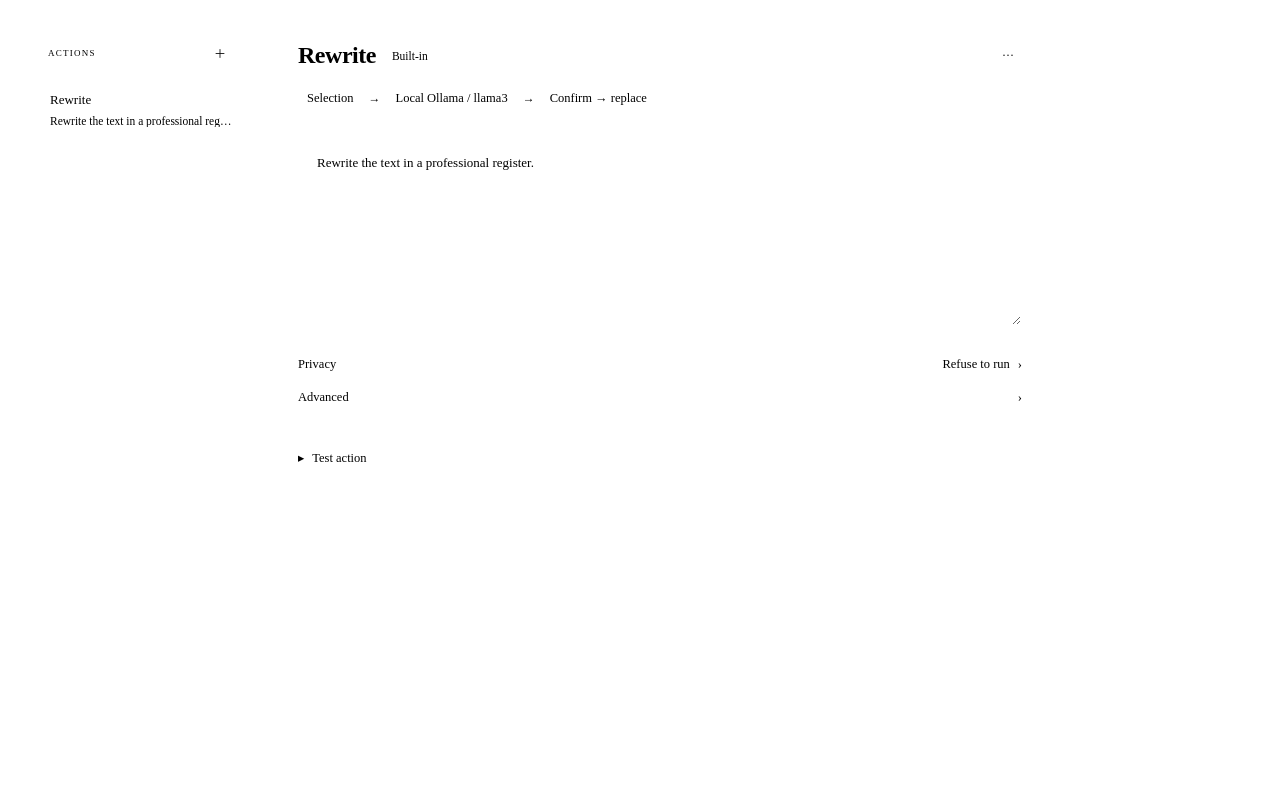
ActionsPage — the test bench › stays folded until asked for, then applies nothing until confirmed
The width and height of the screenshot is (1280, 800).
Click the button "▸ Test action": (332, 458) [298,444,367,472]
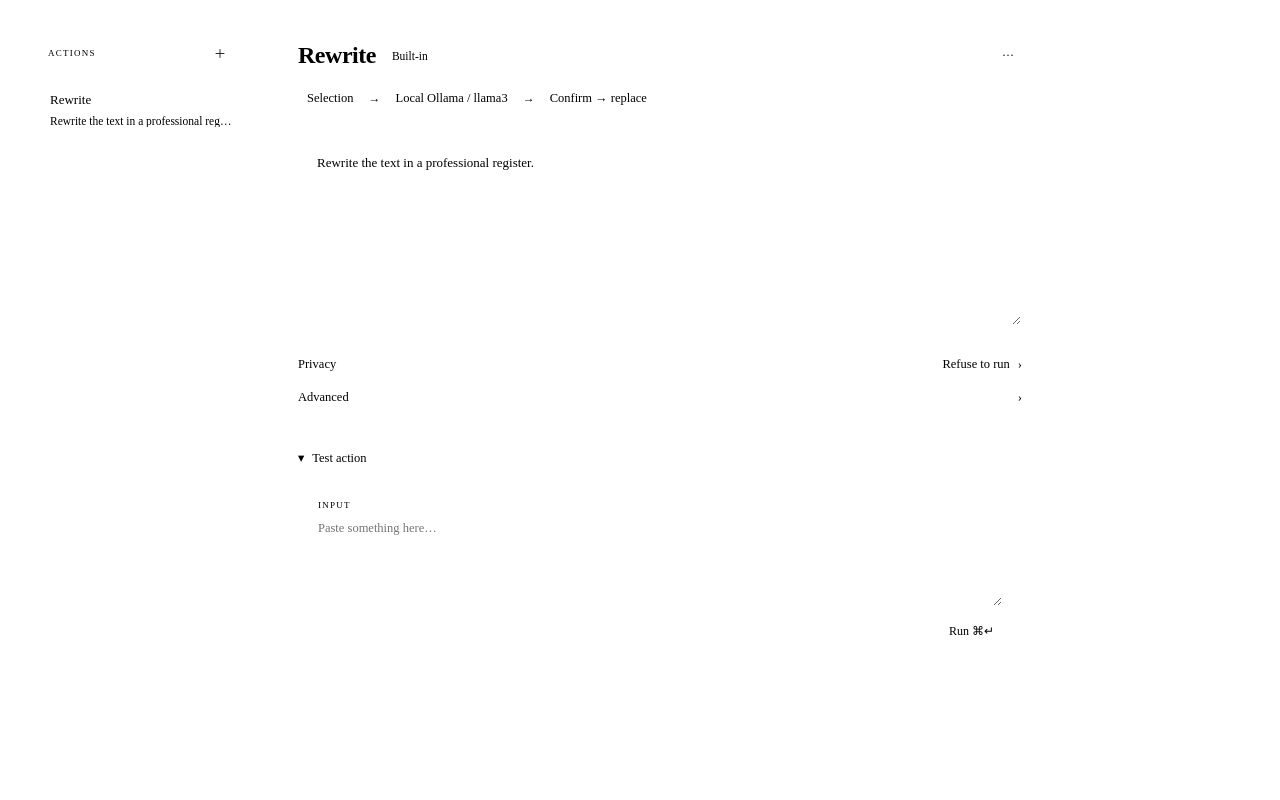
In the text box named "Test input": (660, 558) [318,510,1002,606], type "hey — fix going out tmrw"
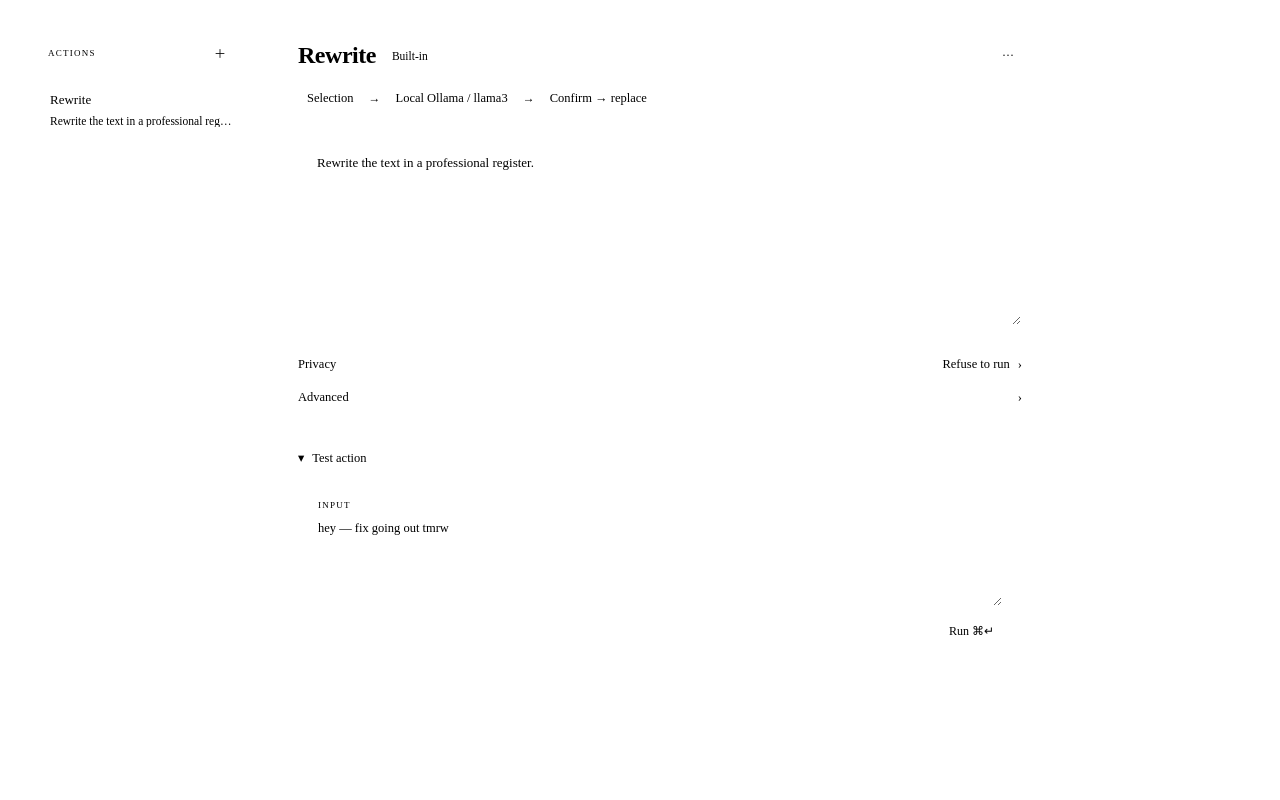
Click the button "Run ⌘↵": (971, 631) [941,618,1002,644]
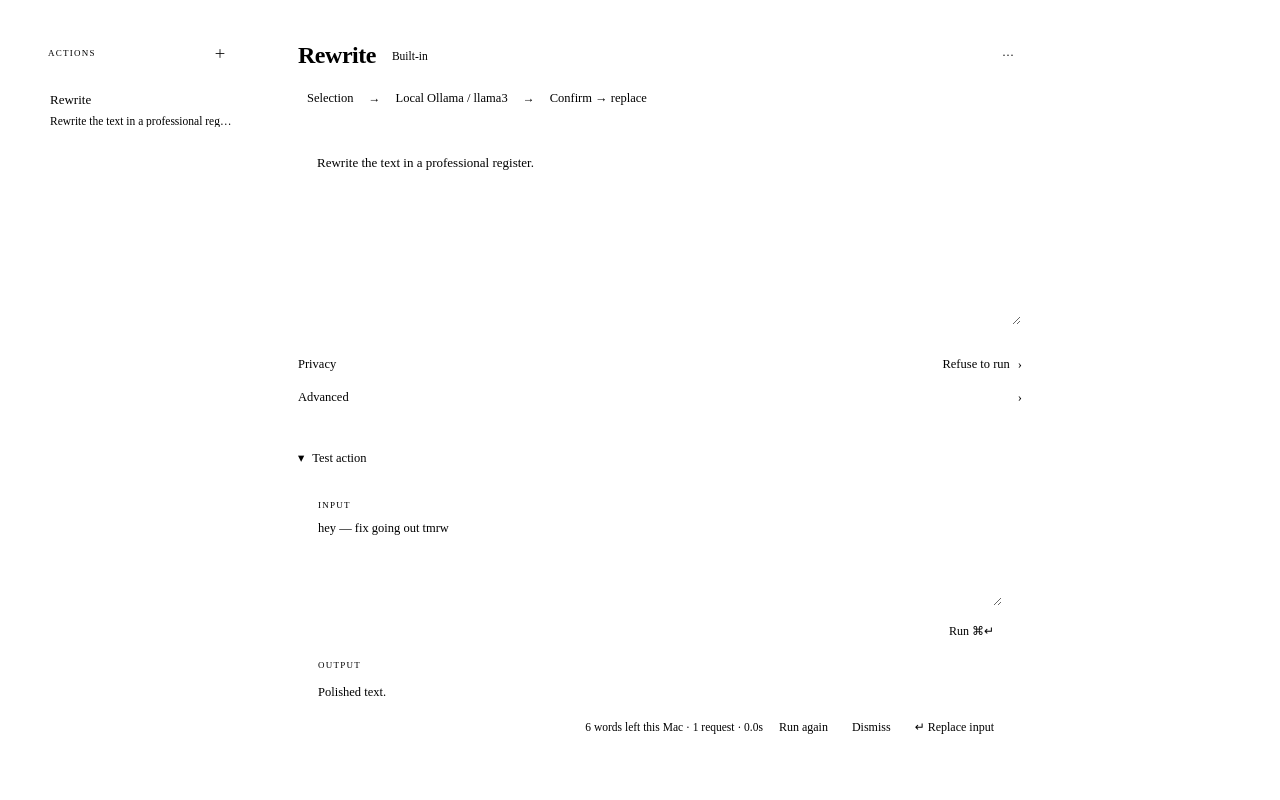
Check: the text "Polished text." is shown, box [318,685,386,699]
Click the button "↵ Replace input": (954, 727) [907,714,1002,740]
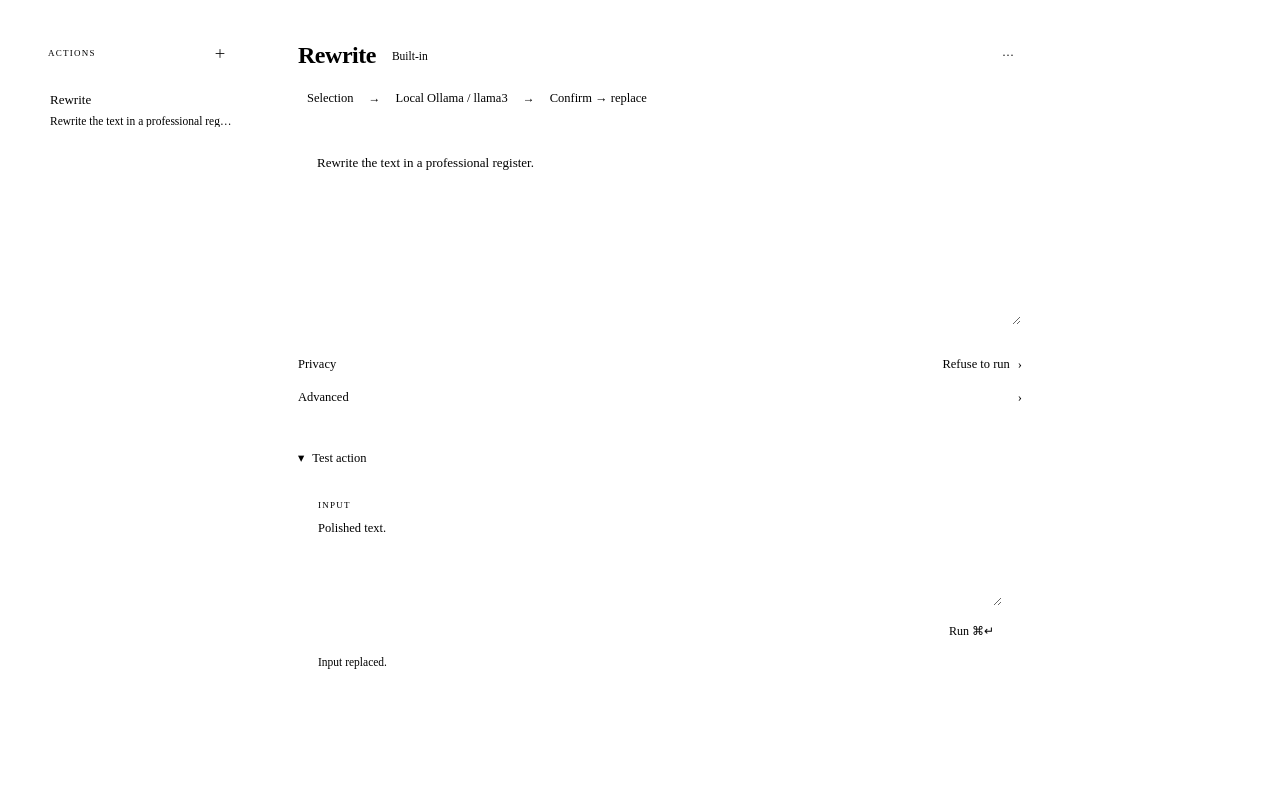
Check: the text box named "Test input" holds "Polished text.", box [318,510,1002,606]
